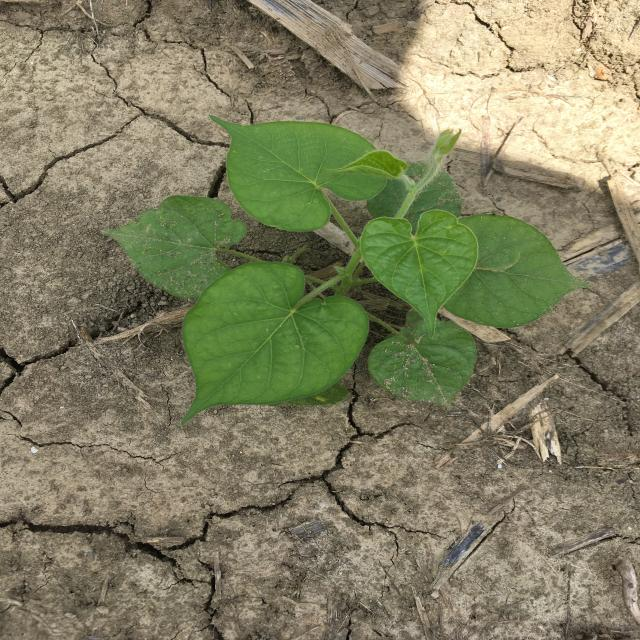MorningGlory: (100, 114, 600, 427)
